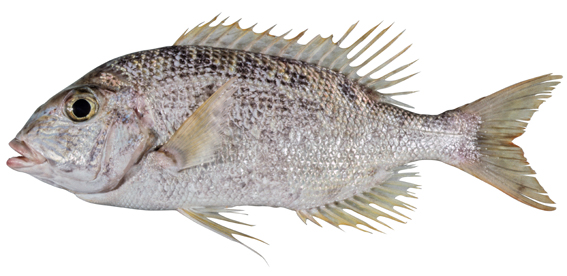fish: (6, 12, 563, 267)
